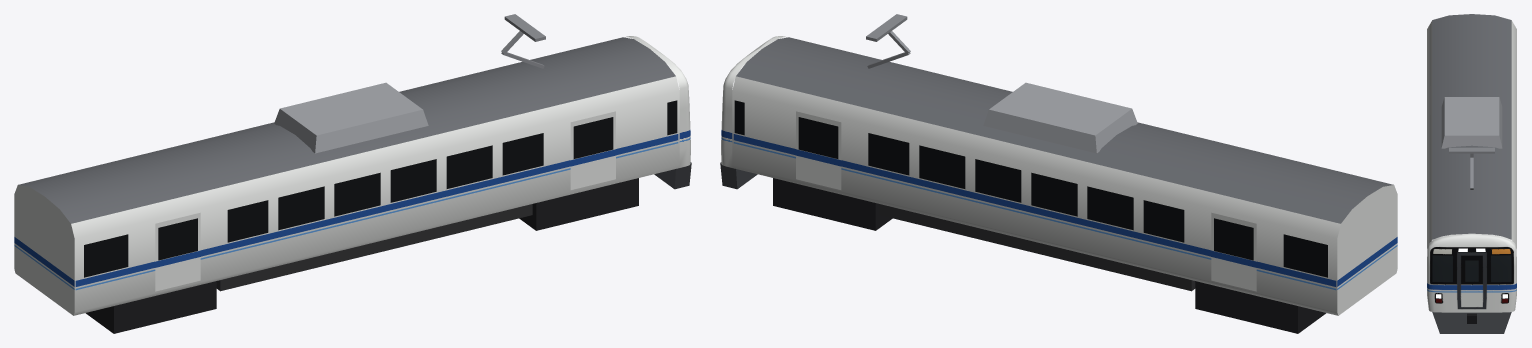
The model's file is r500_Mc_far.glb.
The picture shows the model from 3 angles, left to right: view 1: azimuth 30°, elevation 25°; view 2: azimuth 150°, elevation 25°; view 3: azimuth 270°, elevation 25°; orthographic projection. The views are drawn at different scales.
Parts seen in each view (by area): view 1: far_body, far_detail, far_roof_under; view 2: far_body, far_detail, far_roof_under; view 3: far_body, far_roof_under, far_detail.
Part boxes in pixels (<box>): far_body: <box>14,36,690,315</box>; far_detail: <box>75,100,678,291</box>; far_roof_under: <box>85,14,691,333</box>; far_body: <box>721,36,1397,315</box>; far_detail: <box>733,100,1336,291</box>; far_roof_under: <box>720,14,1326,333</box>; far_body: <box>1427,14,1516,312</box>; far_roof_under: <box>1432,97,1511,333</box>; far_detail: <box>1436,248,1507,302</box>.
Size of the model in its own units: 17.75 by 5.01 by 3.01.
15 materials, 1 textured.
